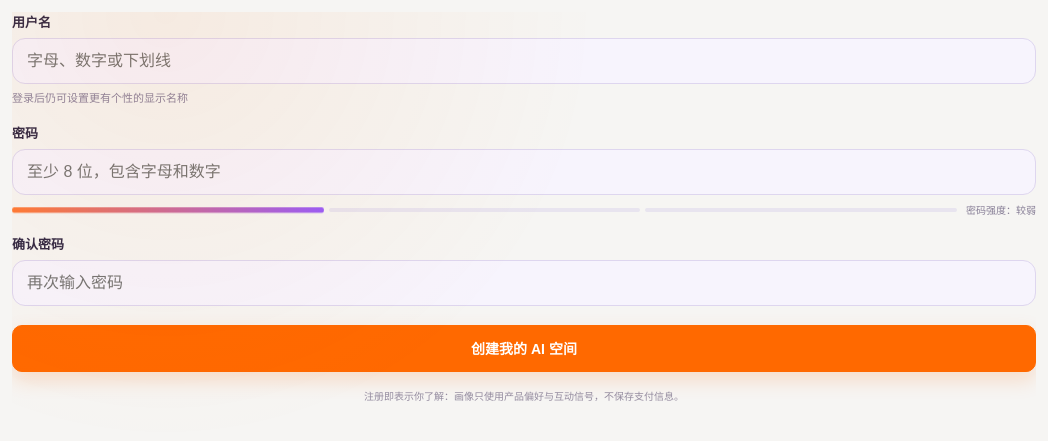
RegisterForm › shows field-level mismatch feedback instead of submitting
This screenshot has width=1048, height=441.
Type "new_user" into the field labelled "用户名 登录后仍可设置更有个性的显示名称" at (524, 61), box [12, 38, 1036, 84]
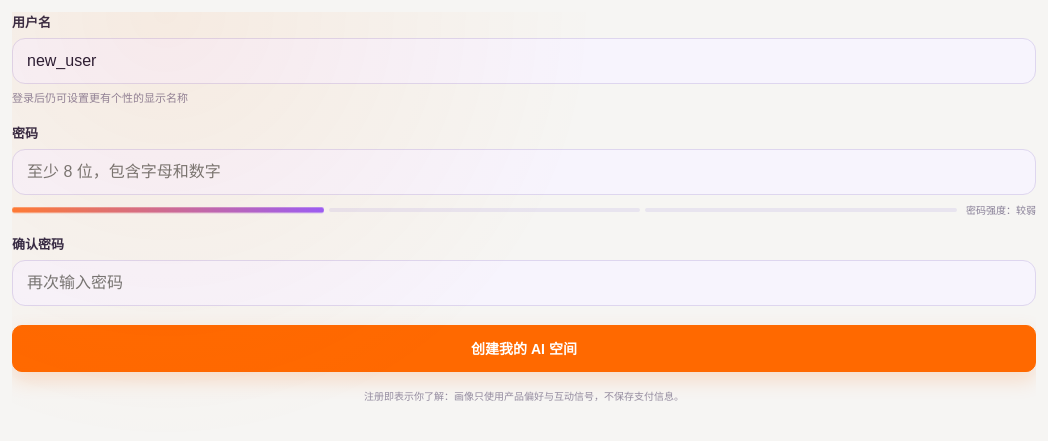
Type "Password123" into the password field labelled "密码 密码强度：较弱" at (524, 172), box [12, 149, 1036, 195]
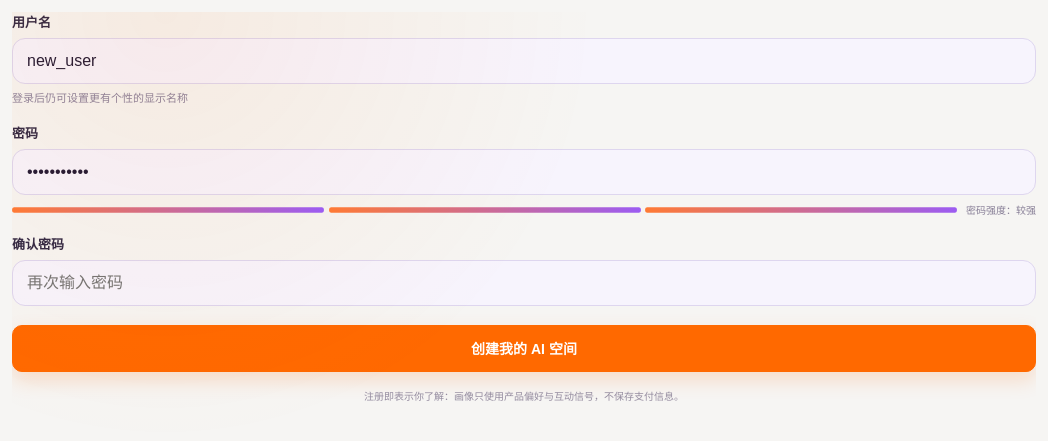
Type "Different123" into the password field labelled "确认密码" at (524, 283), box [12, 260, 1036, 306]
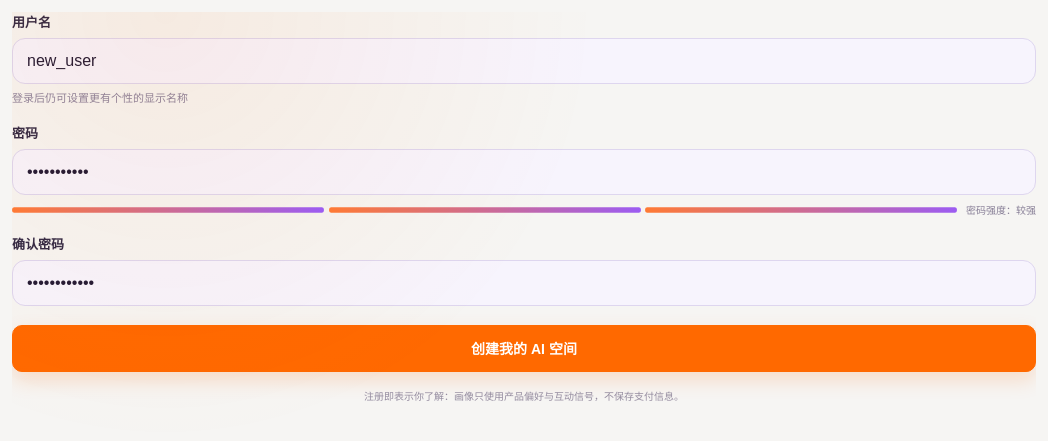
Submit the form
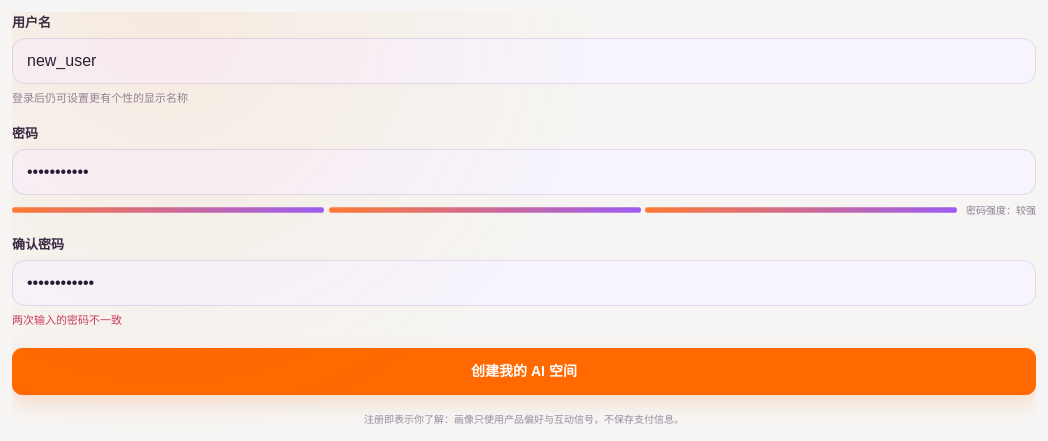
Expected: the form shows "两次输入的密码不一致", [12, 314, 122, 326]
